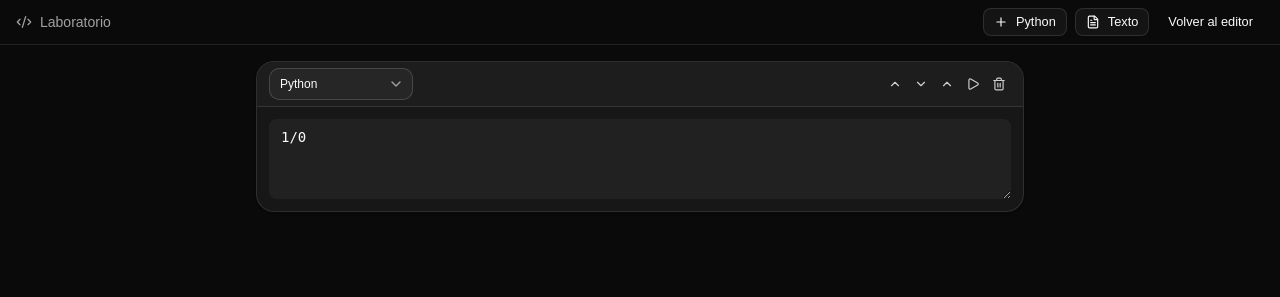
LabCanvas › shows the backend error message when a python cell fails
Click the button titled "Ejecutar celda" at x=973, y=84, box [961,72,985,96]
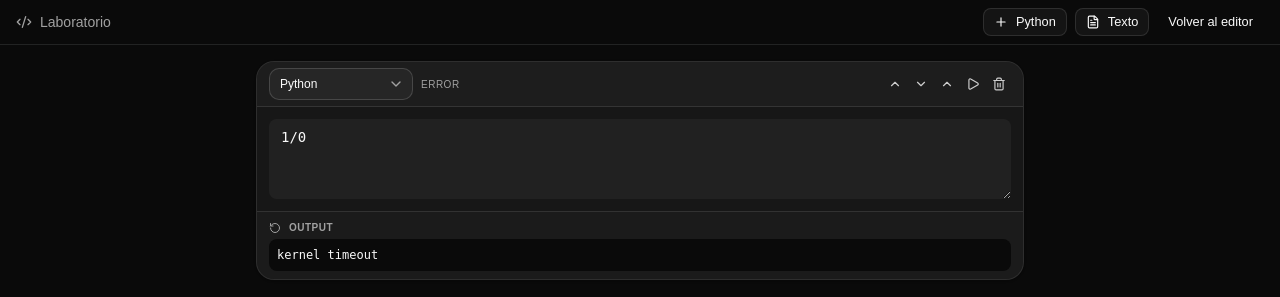
Check: the text "kernel timeout" is shown, box [269,239,1011,271]
